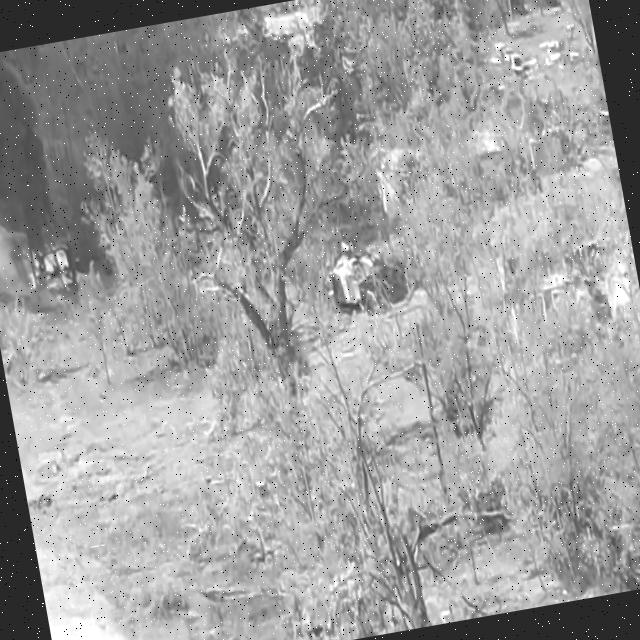APC: (321, 236, 397, 319)
Destroyed: (21, 225, 81, 297)
